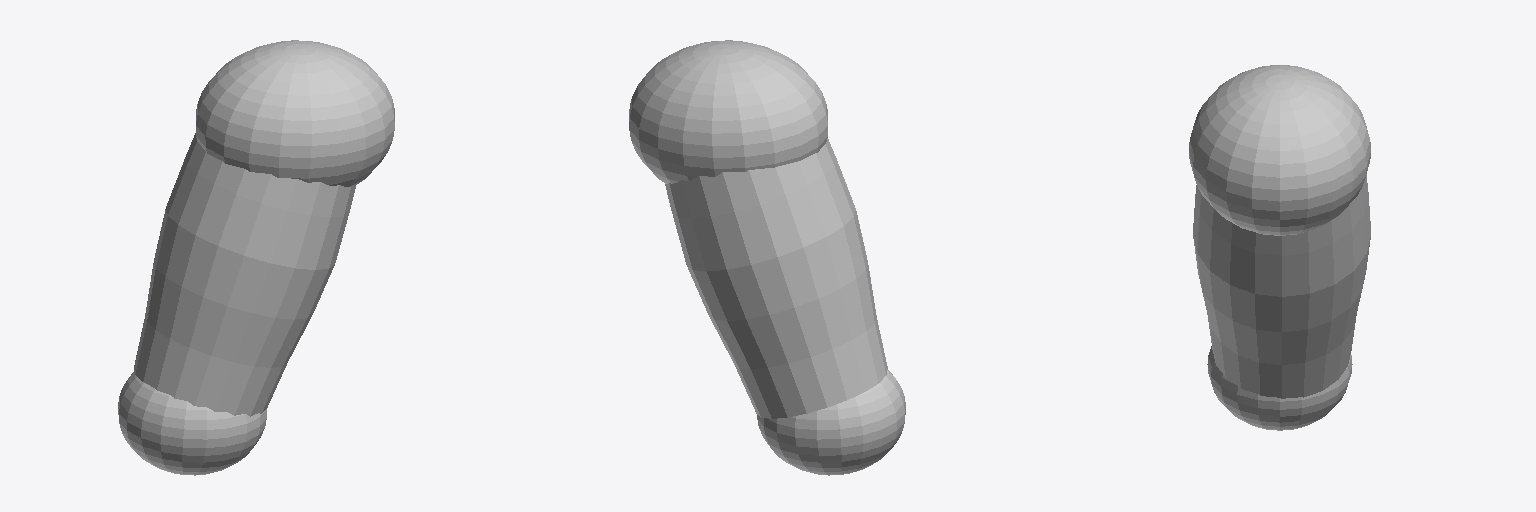
The model's file is armR.obj.
The picture shows the model from 3 angles: view 1: azimuth 30°, elevation 25°; view 2: azimuth 150°, elevation 25°; view 3: azimuth 270°, elevation 25°; orthographic projection.
Visible parts, largest first — view 1: armR:pSphere7; view 2: armR:pSphere7; view 3: armR:pSphere7.
Part boxes in pixels (x1,y1,x2,y2): armR:pSphere7: (118,40,394,475); armR:pSphere7: (629,40,905,475); armR:pSphere7: (1189,65,1370,430).
Size of the model in its own units: 2.3 by 3.34 by 1.41.